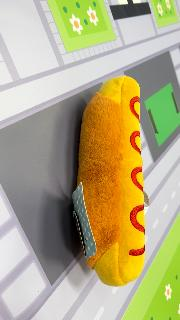hotdog: (71, 75, 146, 287)
